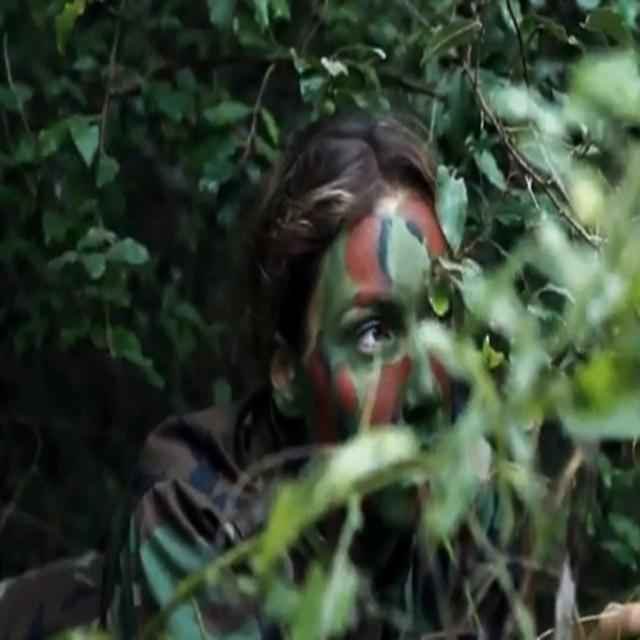nomask: (306, 203, 459, 531)
